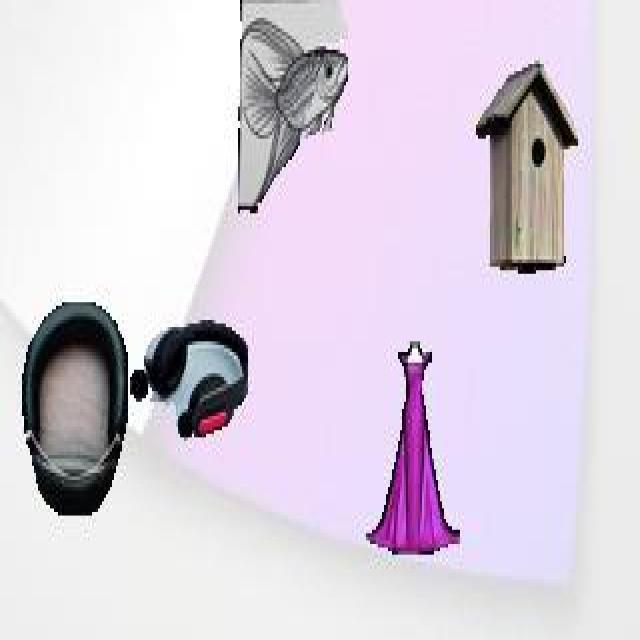Other Objects: (21, 300, 128, 516), (366, 341, 460, 558), (130, 319, 249, 439)
